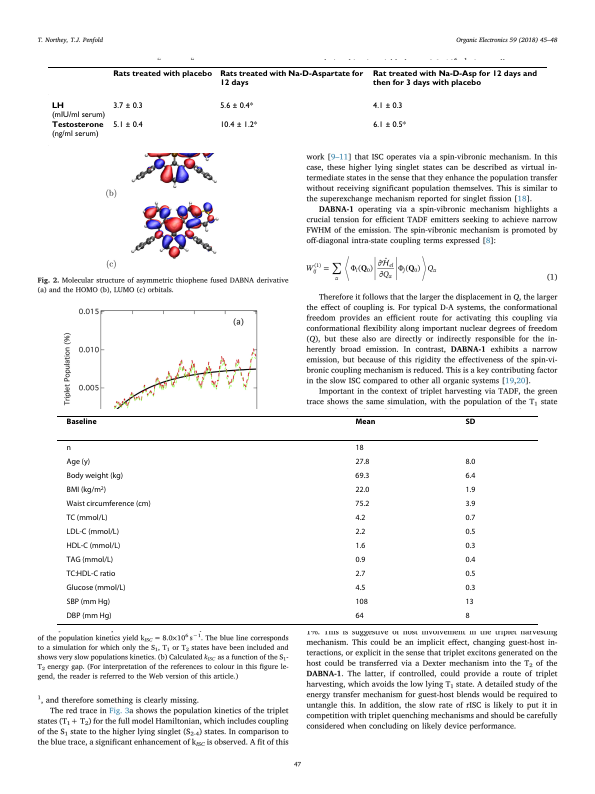borderless: (56, 414, 538, 624), (46, 65, 548, 147)
cell: (372, 70, 537, 88), (219, 70, 364, 88), (50, 101, 106, 120), (50, 121, 104, 139), (112, 70, 213, 79), (66, 499, 152, 509), (66, 583, 127, 593), (66, 471, 124, 481), (66, 541, 121, 551), (66, 527, 120, 537), (66, 569, 116, 579), (66, 555, 114, 565), (66, 611, 112, 621), (66, 597, 111, 607), (66, 513, 108, 523), (66, 485, 107, 495), (219, 120, 258, 130), (219, 101, 254, 111), (372, 120, 406, 130), (112, 101, 143, 111), (372, 101, 403, 111), (112, 120, 143, 130), (66, 417, 98, 425), (66, 457, 91, 467), (354, 417, 376, 425), (354, 457, 370, 467), (354, 471, 370, 481), (354, 485, 370, 495), (354, 499, 370, 509), (354, 597, 369, 607), (464, 457, 476, 467), (464, 471, 476, 481), (464, 485, 476, 495), (464, 499, 476, 509), (354, 513, 366, 523), (464, 513, 476, 523), (354, 527, 366, 537), (464, 527, 476, 537), (354, 541, 366, 551), (464, 541, 476, 551), (354, 555, 366, 565), (464, 555, 476, 565), (354, 569, 366, 579), (464, 569, 476, 579), (354, 583, 366, 593), (354, 443, 365, 453), (465, 583, 476, 593), (464, 597, 475, 607), (354, 611, 365, 621), (464, 417, 476, 425), (464, 611, 471, 621), (66, 443, 72, 453)
